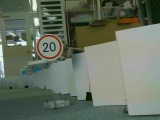speed_20: (35, 33, 63, 60)
